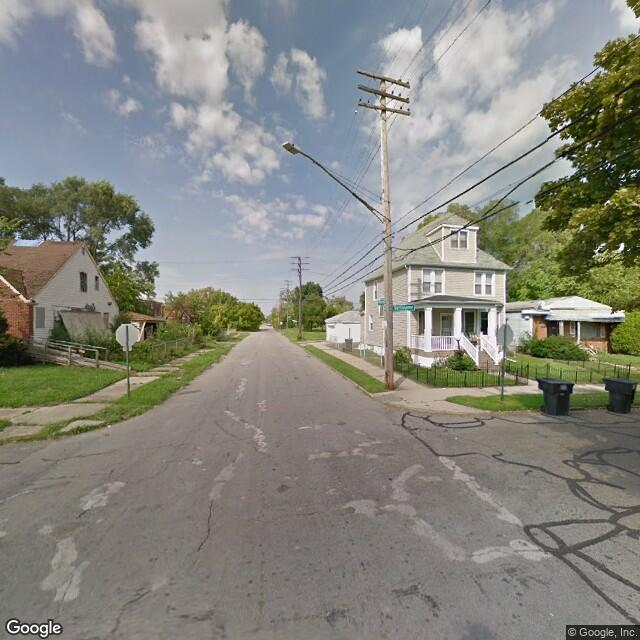litter: (107, 423, 112, 427), (442, 385, 445, 390)
